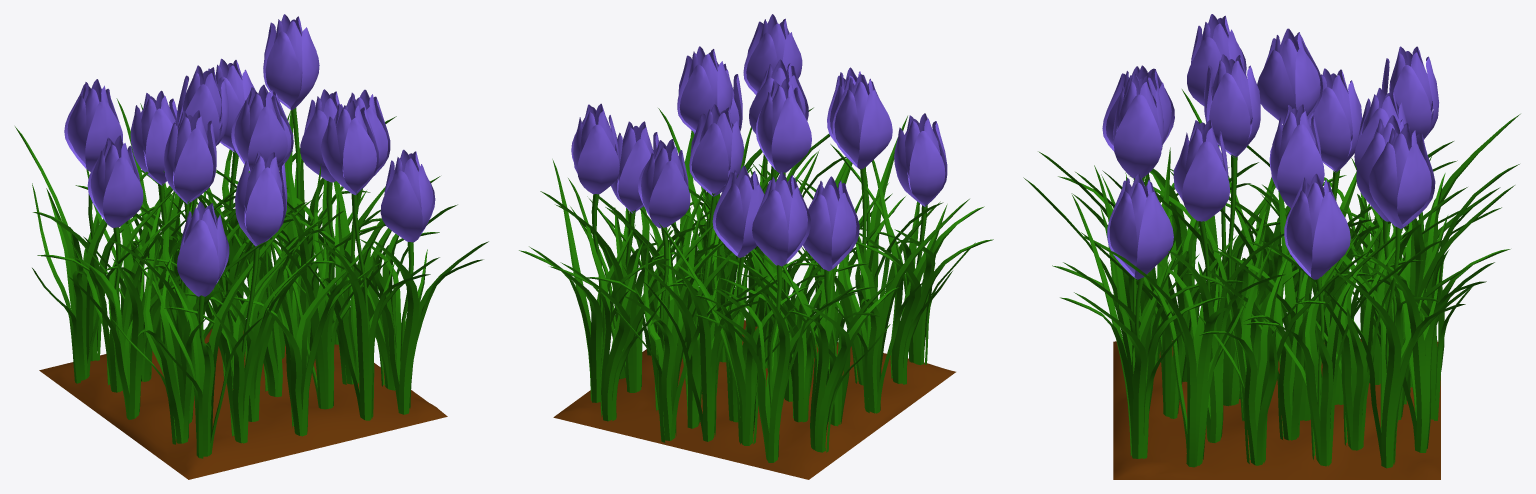
File: purple-tulip-p4-bloom.glb
3 renders of one model, left to right at view 1: azimuth 30°, elevation 25°; view 2: azimuth 150°, elevation 25°; view 3: azimuth 270°, elevation 25°, orthographic. The views are drawn at different scales.
Visible parts, largest first — view 1: 4_nft_bloom; view 2: 4_nft_bloom; view 3: 4_nft_bloom.
Boxes of the visible parts, x1,y1,x2,y2 form: 4_nft_bloom: (15, 14, 488, 479); 4_nft_bloom: (519, 14, 993, 479); 4_nft_bloom: (1023, 14, 1520, 479).
Bounding box in the file's own units: 0.9577 × 0.8494 × 1.07.
